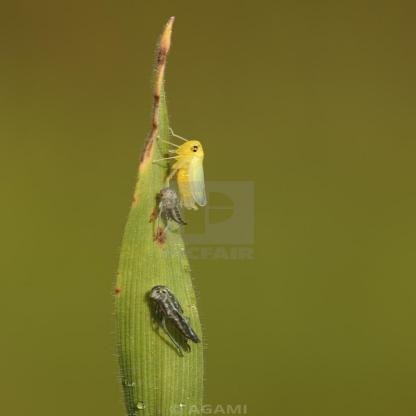Green-Leafhopper: (150, 127, 216, 212), (140, 284, 202, 352), (147, 187, 195, 233)
